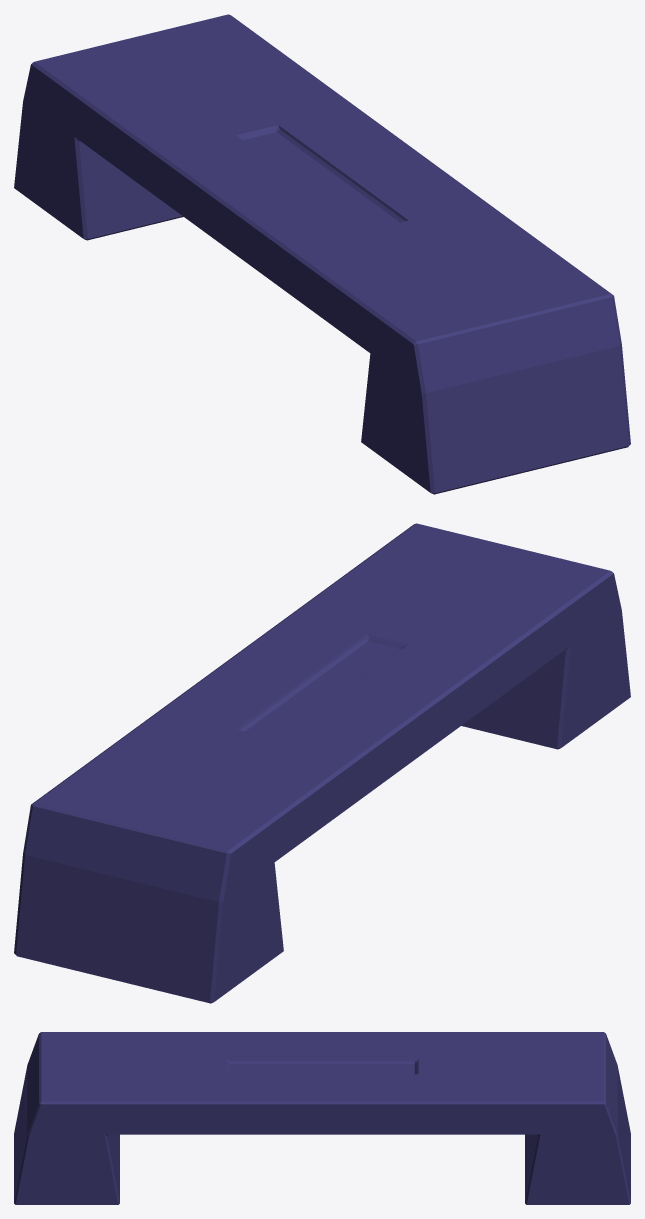
File: StepThingy.fbx
The picture shows the model from 3 angles, top to bottom: view 1: azimuth 30°, elevation 25°; view 2: azimuth 150°, elevation 25°; view 3: azimuth 270°, elevation 25°; orthographic projection. The views are drawn at different scales.
Visible parts, largest first — view 1: Cube; view 2: Cube; view 3: Cube.
Part boxes in pixels (x1,y1,x2,y2): Cube: (14, 14, 630, 494); Cube: (14, 523, 630, 1003); Cube: (14, 1032, 630, 1204).
Bounding box in the file's own units: 319 × 214 × 1158.
